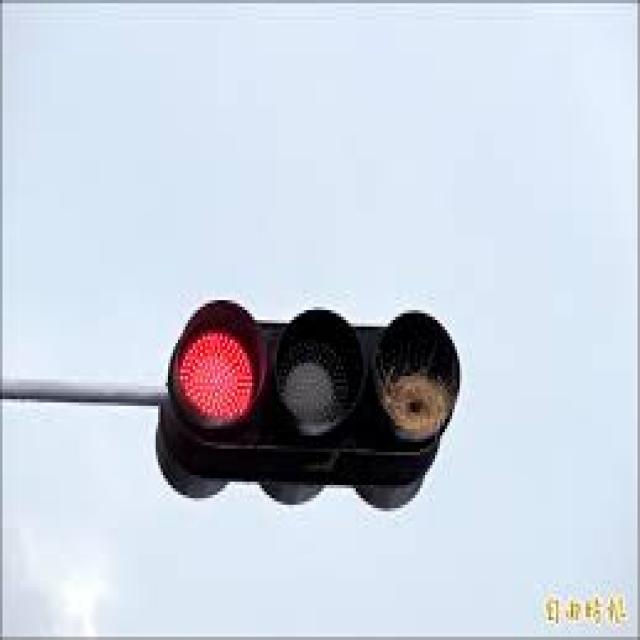red: (181, 317, 258, 421)
